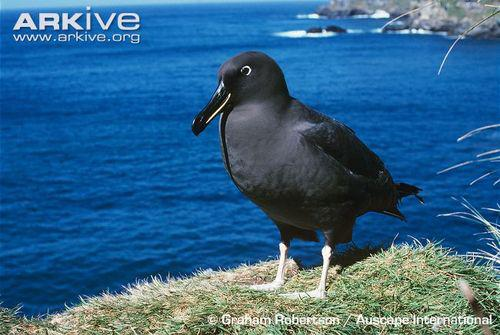003.Sooty_Albatross: (189, 52, 425, 303)
